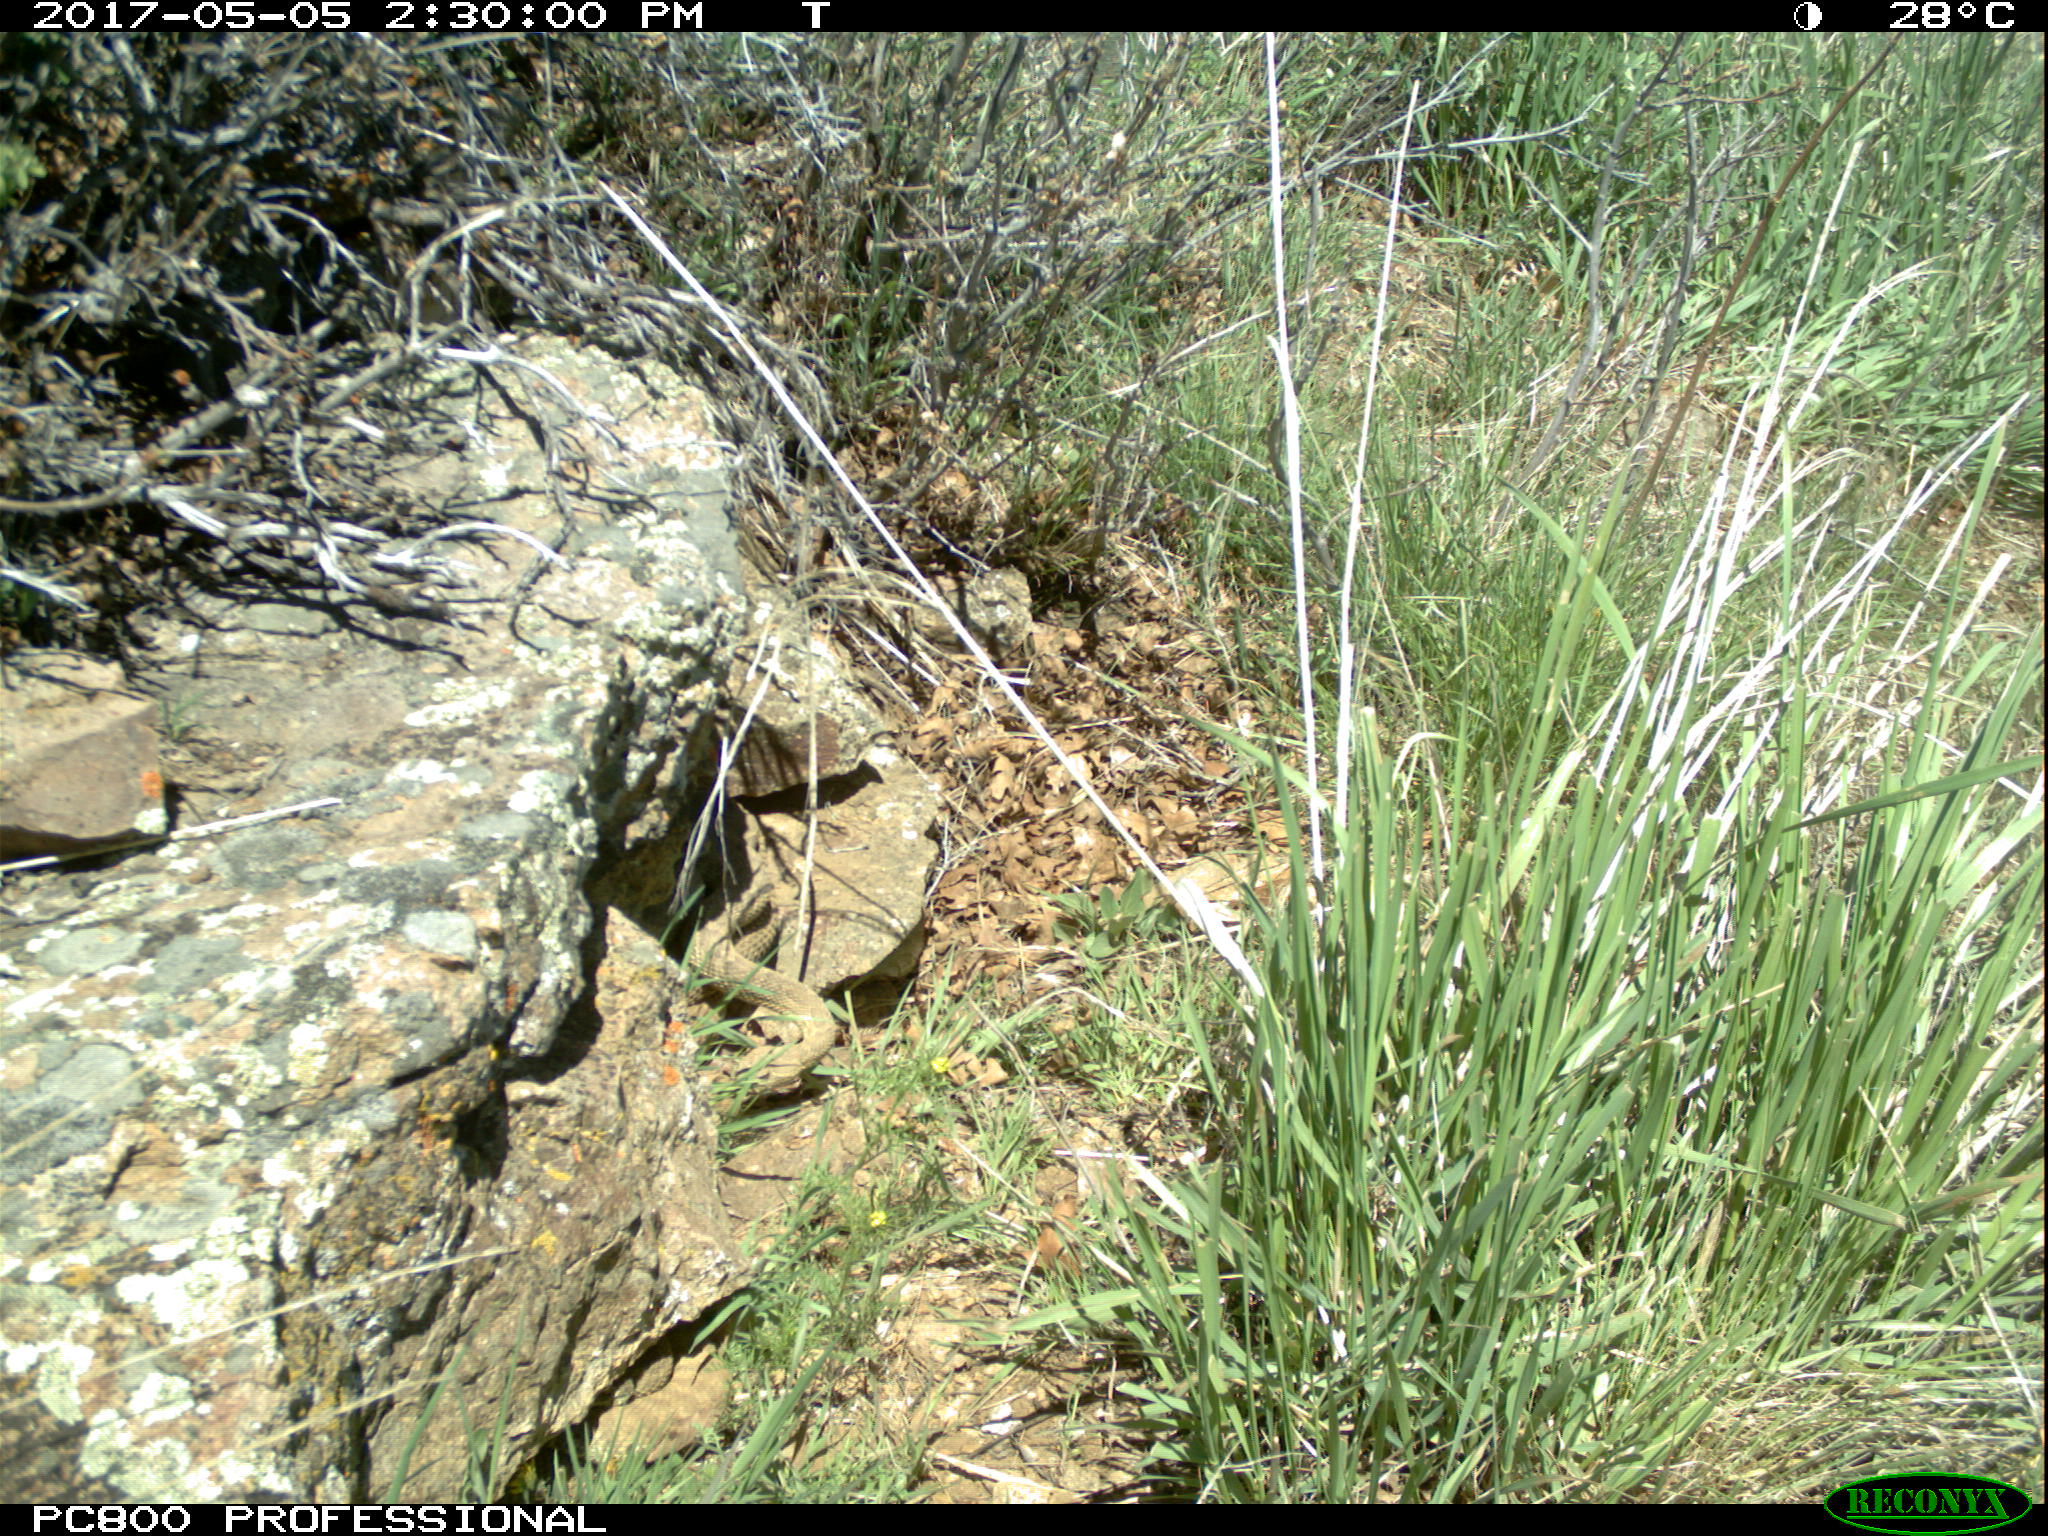snake: (689, 874, 864, 1099), (582, 1325, 760, 1470)
